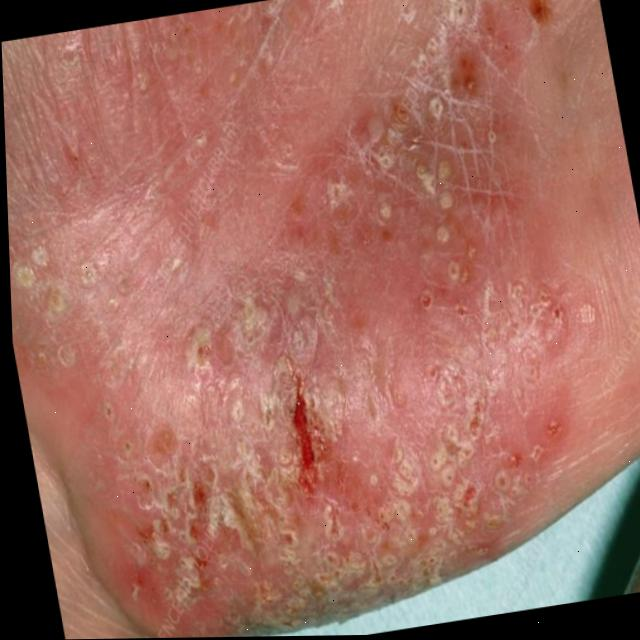Eczema: (42, 82, 640, 639)
